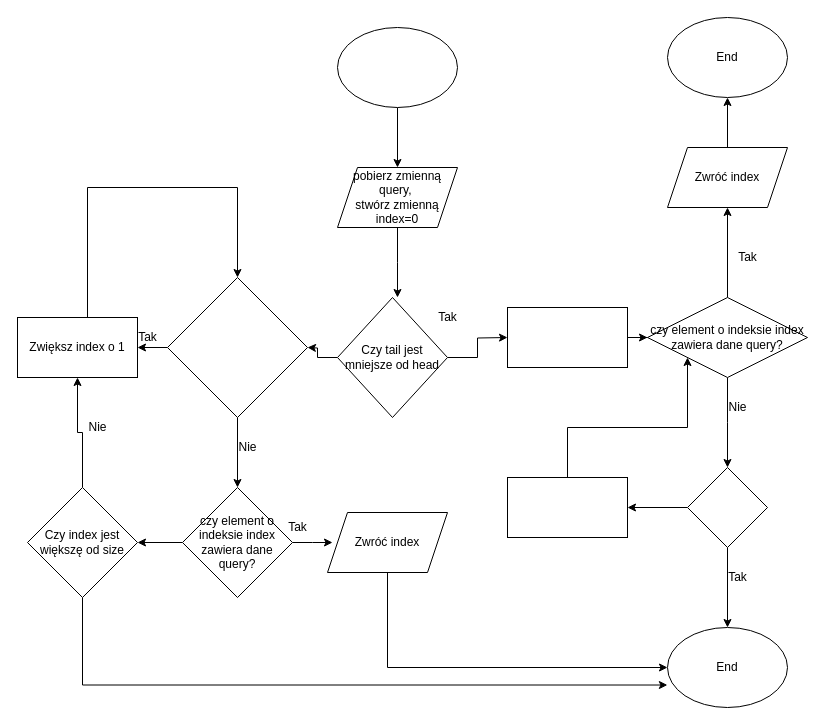
The diagram is 825 pixels wide and 725 high, and some of its shapes have lost their labels. Here are the shapes that lost their labels. From the top down, the box of each, then its label:
(336, 26, 458, 108): Start
(166, 276, 308, 418): czy tail<=index<head
(506, 306, 628, 368): Index = head
(506, 476, 628, 538): Zwieksz index o 1
(686, 466, 768, 548): Czy index+1 jest większe od tail
